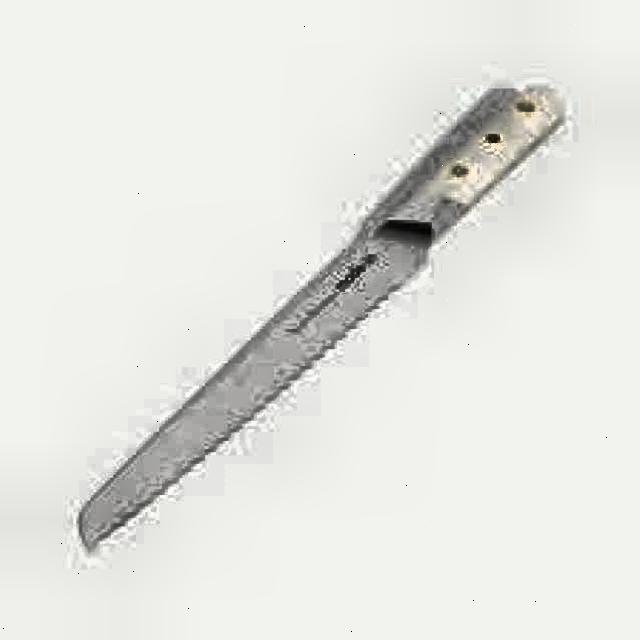knife: (73, 78, 567, 556)
